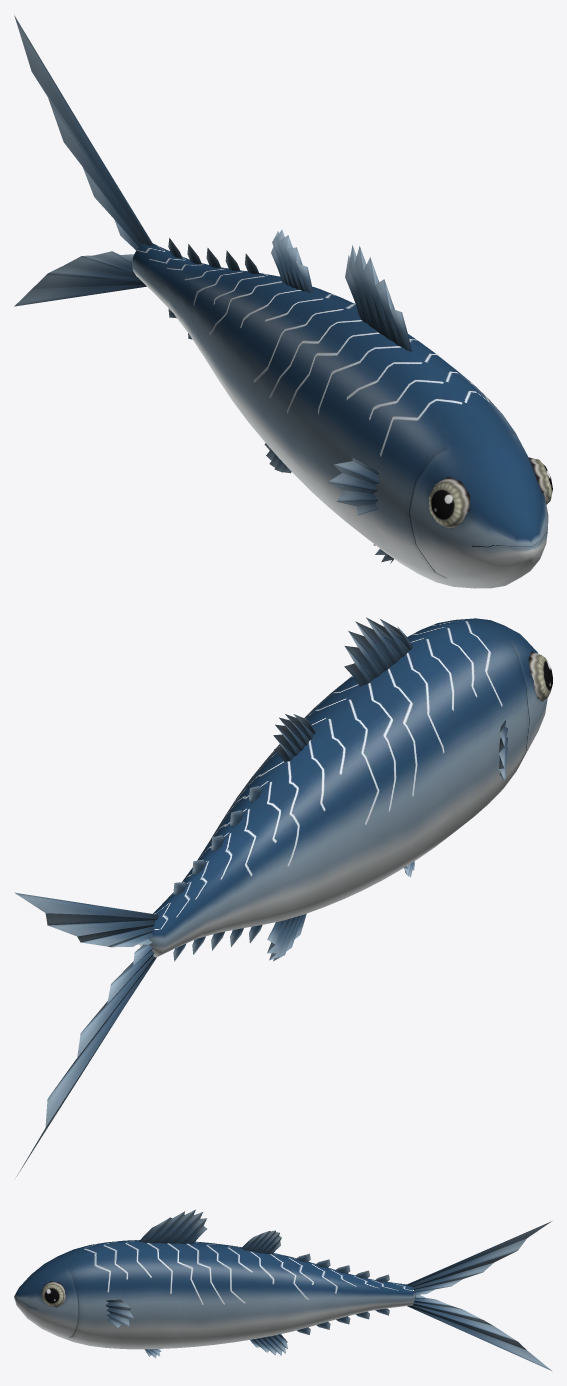
File: squall-mackerel.glb
3 views of the same model, one above another, from view 1: azimuth 30°, elevation 25°; view 2: azimuth 150°, elevation 25°; view 3: azimuth 270°, elevation 25° (orthographic). The views are drawn at different scales.
Visible parts, largest first — view 1: squall-mackerel; view 2: squall-mackerel; view 3: squall-mackerel.
Boxes of the visible parts, left/top/right/bottom form: squall-mackerel: left=14, top=15, right=552, bottom=588; squall-mackerel: left=14, top=617, right=552, bottom=1176; squall-mackerel: left=14, top=1209, right=552, bottom=1371.
Bounding box in the file's own units: 0.1948 × 0.3319 × 1.
1 material, 1 textured.
